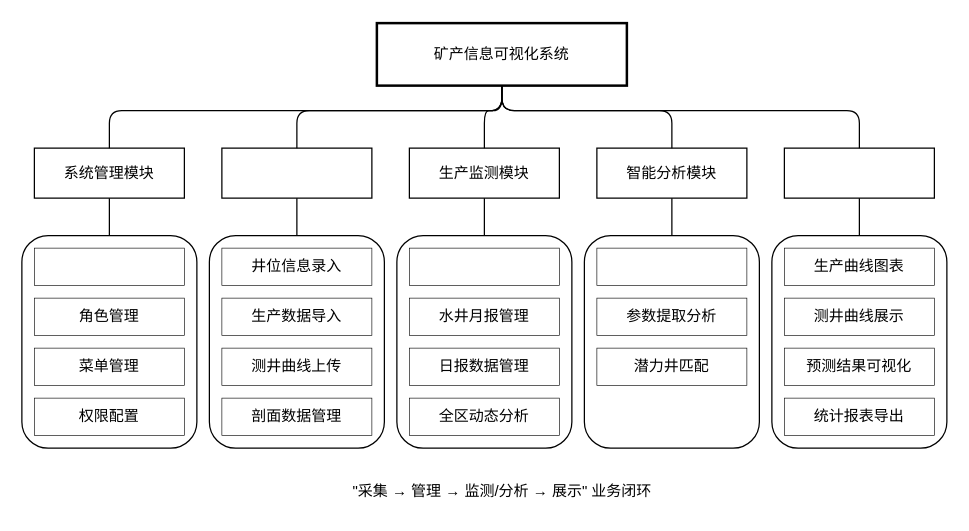
This 969x531 diagram has some shape labels left out. The shapes that lost their labels are listed below. From the top down, each one's box as (x1, y1, x2, y2) in pixels, then its label:
(221, 147, 372, 198): 数据采集模块
(783, 147, 934, 198): 可视化展示模块
(34, 247, 184, 285): 用户管理
(408, 247, 559, 285): 油井月报管理
(596, 247, 747, 285): 产量预测分析
